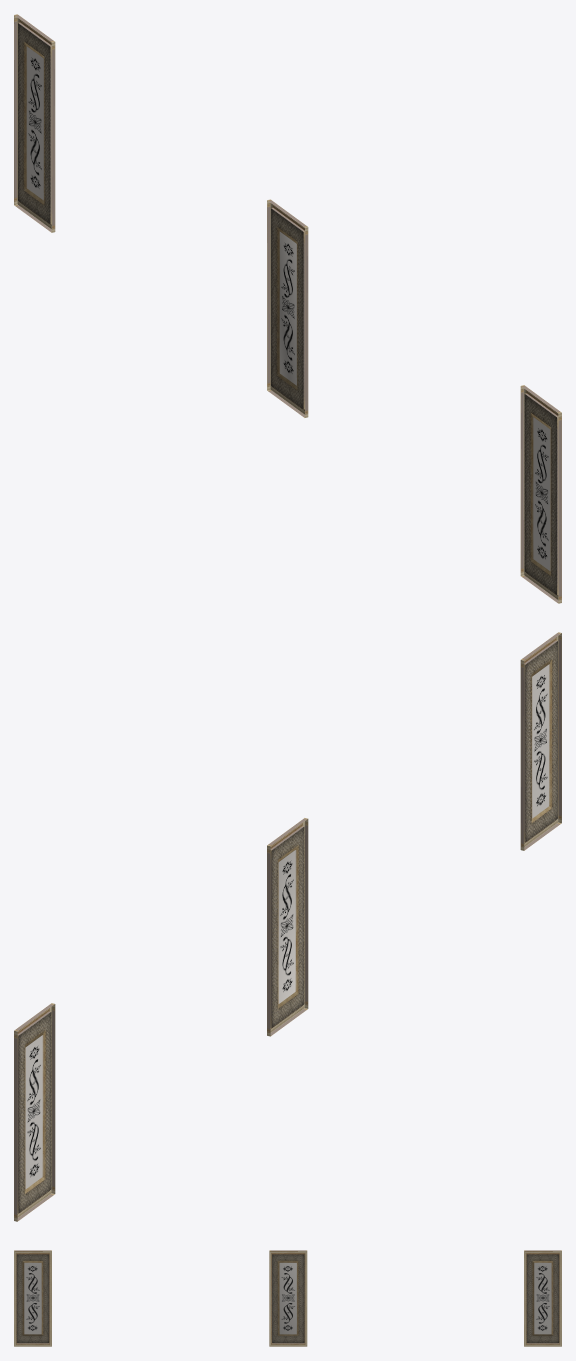
File: CR06_Window_PhotoFrame.FBX
3 renders of one model, top to bottom at view 1: azimuth 30°, elevation 25°; view 2: azimuth 150°, elevation 25°; view 3: azimuth 270°, elevation 25°, orthographic. The views are drawn at different scales.
Visible parts, largest first — view 1: CR06_Window_PhotoFrame; view 2: CR06_Window_PhotoFrame; view 3: CR06_Window_PhotoFrame.
Boxes of the visible parts, <box> form: CR06_Window_PhotoFrame: <box>14,14,561,603</box>; CR06_Window_PhotoFrame: <box>14,632,561,1221</box>; CR06_Window_PhotoFrame: <box>14,1250,561,1346</box>.
Size of the model in its own units: 21.63 by 1109 by 5752.
